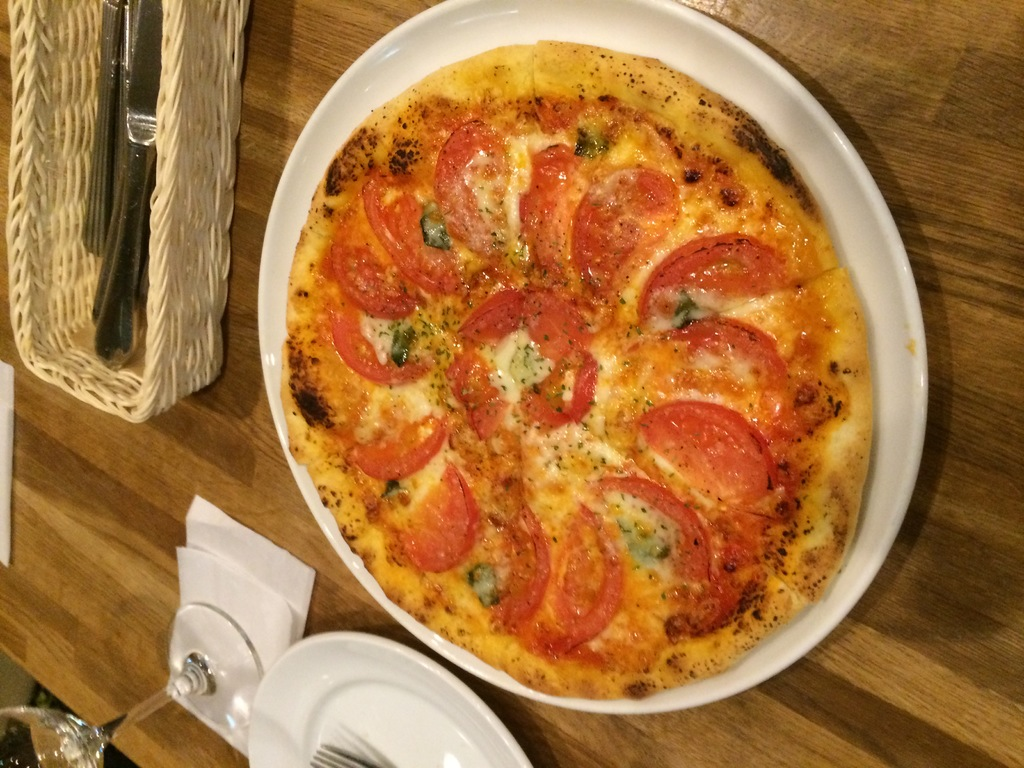Pizza: (269, 26, 846, 691)
